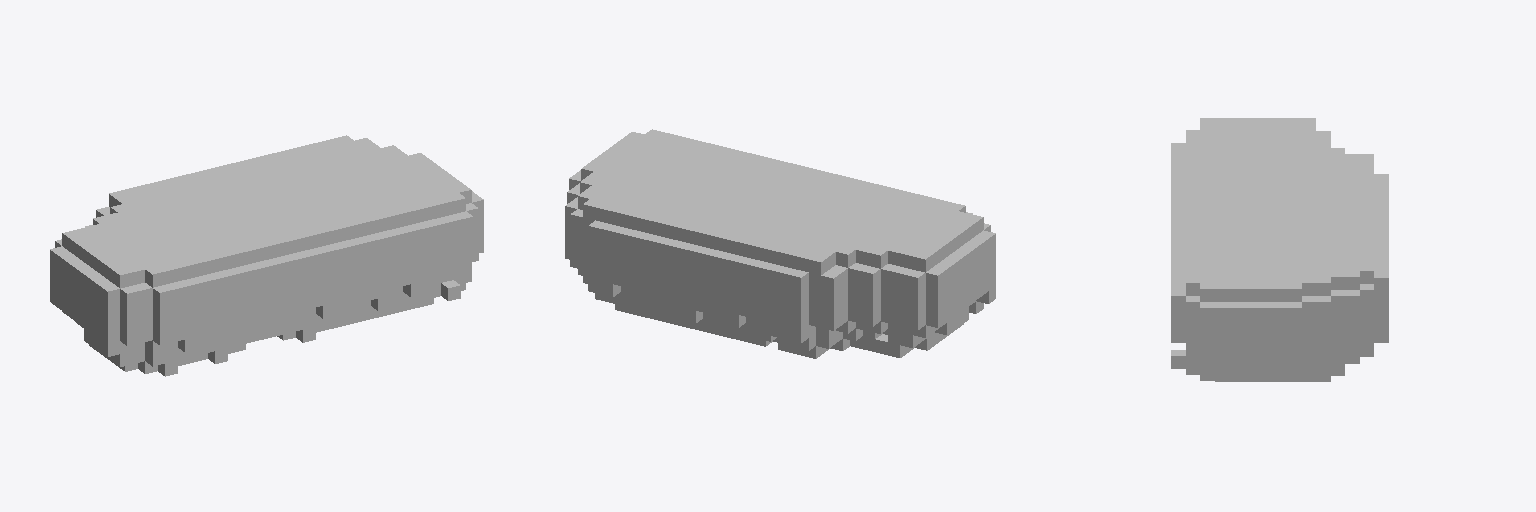
File: ground15.obj
3 renders of one model, left to right at view 1: azimuth 30°, elevation 25°; view 2: azimuth 150°, elevation 25°; view 3: azimuth 270°, elevation 25°, orthographic.
Visible parts, largest first — view 1: ObjObject.013; view 2: ObjObject.013; view 3: ObjObject.013.
Boxes of the visible parts, box(x1,y1,x2,y2) form: ObjObject.013: box(50, 135, 483, 376); ObjObject.013: box(565, 129, 995, 358); ObjObject.013: box(1171, 118, 1388, 381).
Bounding box in the file's own units: 3 × 0.8 × 1.5.